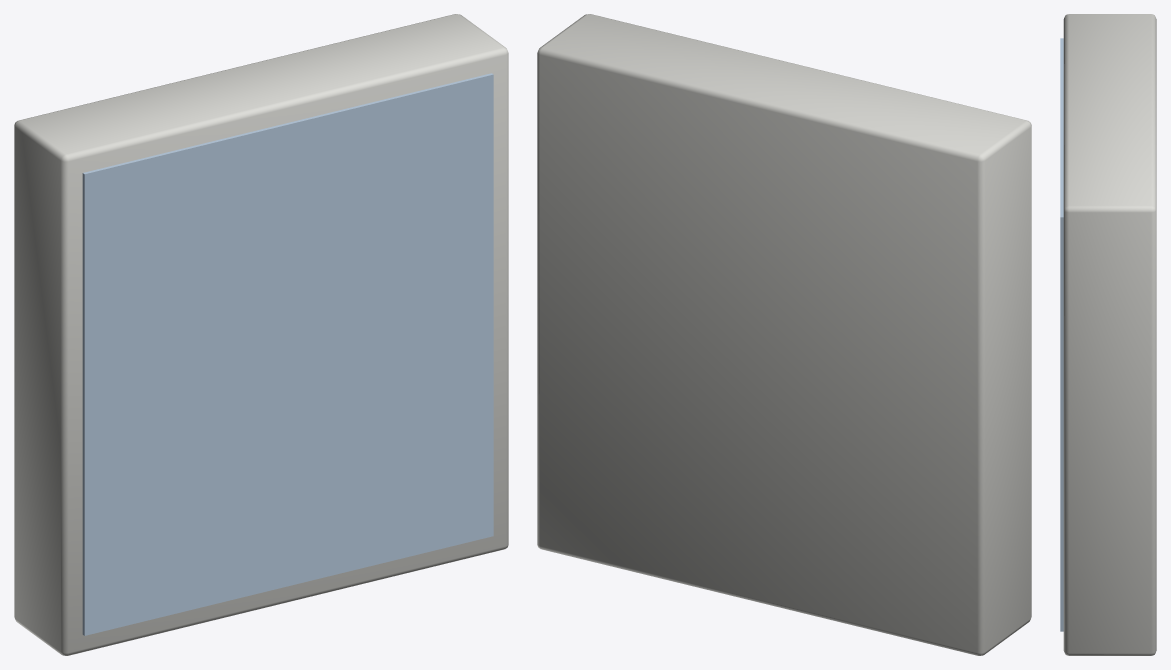
File: Mirror_Cabinet.glb
3 views of the same model, side by side, from view 1: azimuth 30°, elevation 25°; view 2: azimuth 150°, elevation 25°; view 3: azimuth 270°, elevation 25° (orthographic). The views are drawn at different scales.
Parts seen in each view (by area): view 1: Mirror_Cabinet; view 2: Mirror_Cabinet; view 3: Mirror_Cabinet.
Boxes of the visible parts, x1,y1,x2,y2 form: Mirror_Cabinet: (14, 14, 508, 655); Mirror_Cabinet: (537, 14, 1031, 655); Mirror_Cabinet: (1060, 14, 1156, 655).
Bounding box in the file's own units: 0.7 × 0.75 × 0.145.
